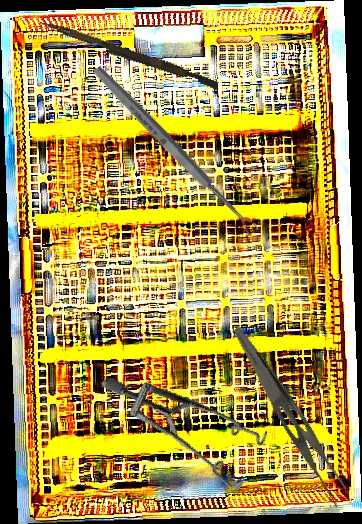Dressing Forceps: (213, 325, 361, 510)
Pusher: (37, 19, 221, 90)
Speculum: (100, 324, 285, 524)
Surgical Spoon: (90, 63, 261, 239)
